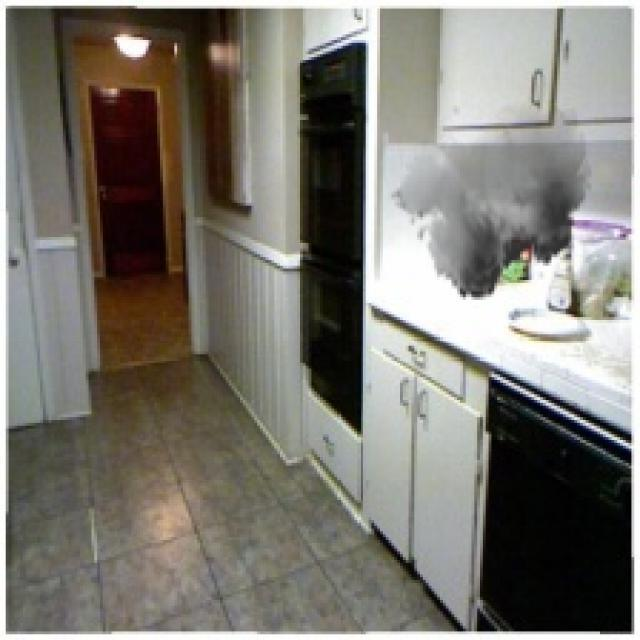Smoke: (388, 94, 592, 309)
